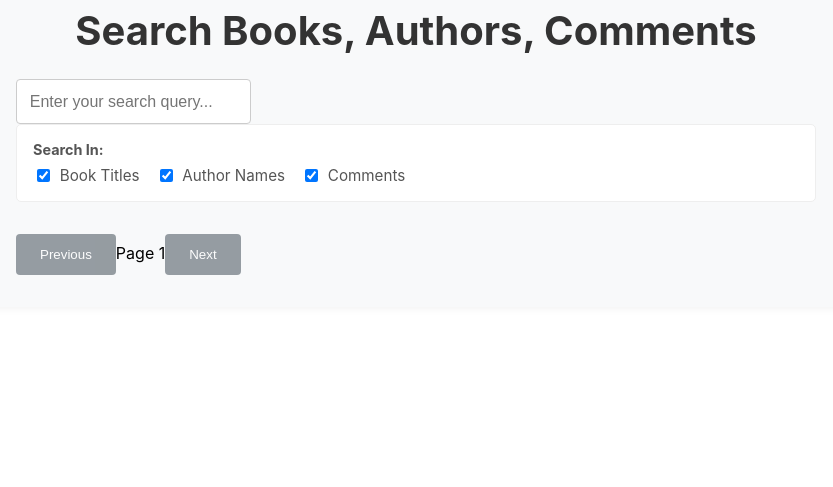
Test: displays error message on fetch failure
Type "fail" into the field with placeholder "Enter your search query..." at (133, 102), box 16,79 -> 251,124
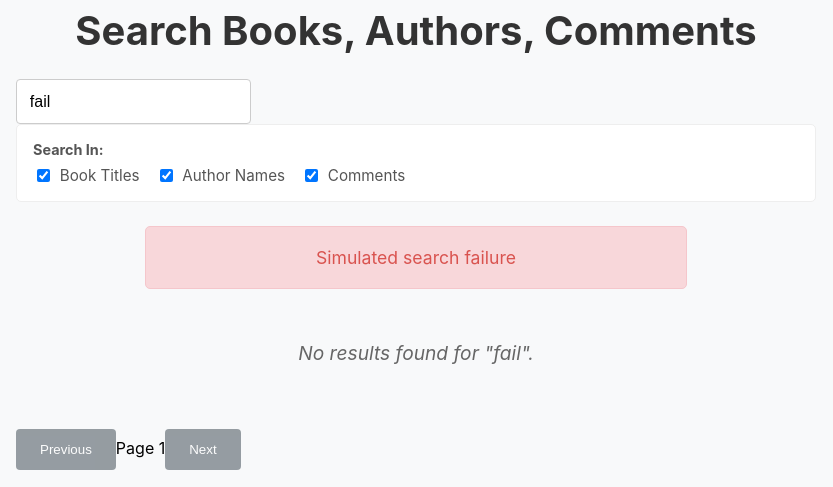
Check: the text "Simulated search failure" is shown, box 145,226 -> 687,289
